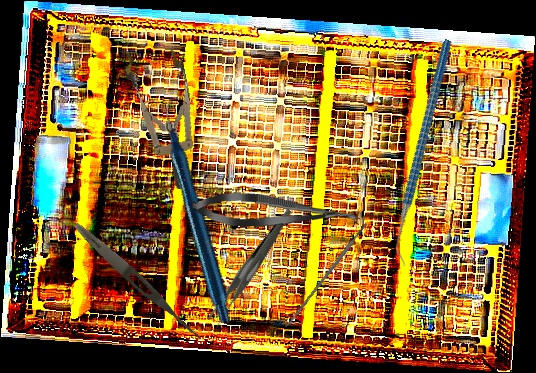Chopper: (329, 38, 521, 267)
Dressing Forceps: (70, 219, 207, 344), (183, 207, 320, 330)
Handpiece: (99, 94, 299, 326)
Micro Scissor: (191, 189, 361, 235)
Scalpel Handle: (284, 222, 369, 329)
Speculum: (121, 43, 209, 196)
